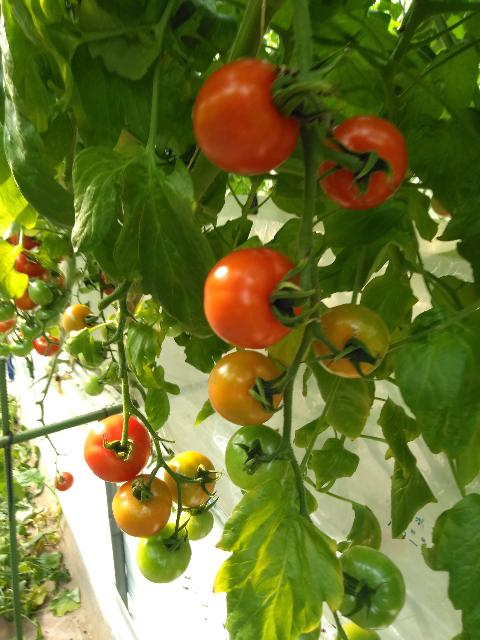l_fully_ripened: (192, 59, 301, 176), (202, 246, 305, 349), (318, 114, 409, 209), (84, 414, 152, 484), (15, 251, 43, 279), (34, 335, 60, 356), (54, 472, 74, 492)
l_green: (338, 545, 406, 631), (224, 425, 291, 492), (135, 523, 191, 584), (177, 505, 214, 541), (332, 622, 381, 640), (28, 279, 54, 306), (21, 316, 44, 339), (101, 361, 122, 386), (36, 307, 60, 328), (10, 336, 34, 357), (84, 374, 104, 396)
l_half_ripened: (207, 349, 285, 426), (313, 304, 390, 378), (112, 473, 172, 538), (164, 452, 217, 508), (62, 304, 96, 335), (39, 267, 66, 290)
